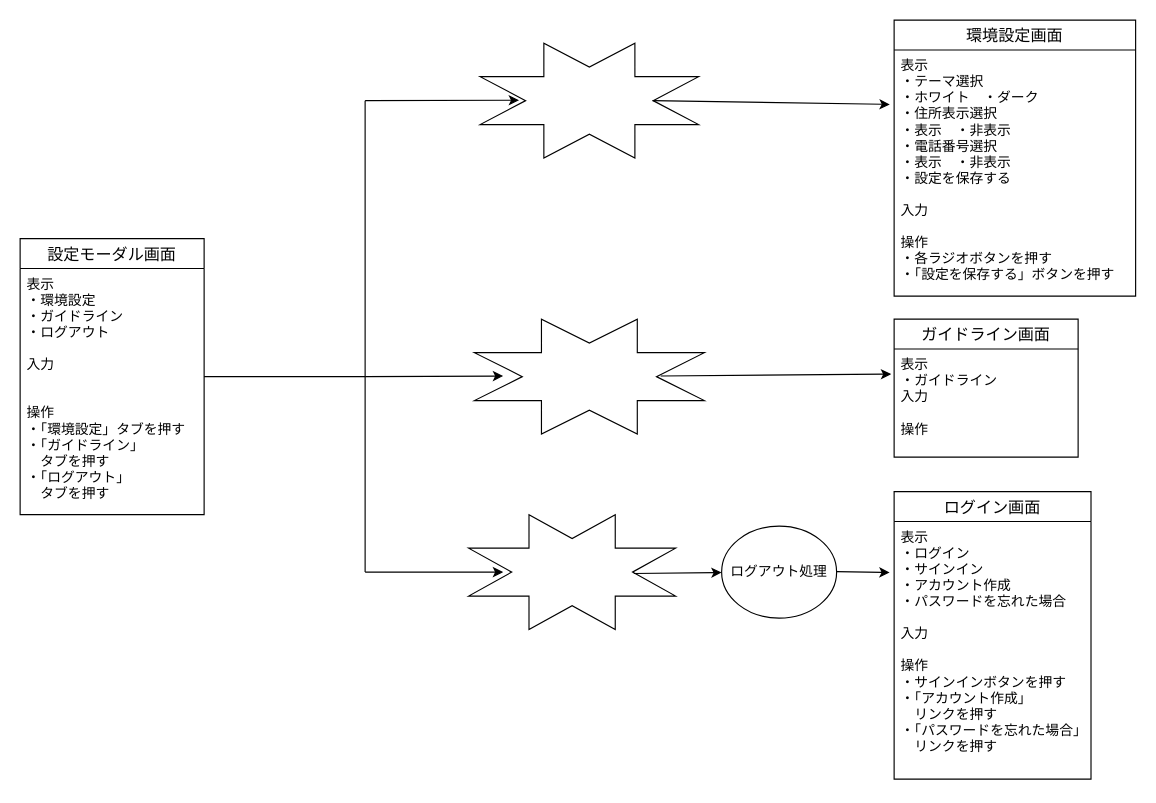
Some shapes in this 1156 by 803 pixel diagram are drawn without their labels. The shapes that lost their labels are listed below. From the top down, each one's centre as x and y in pixels, then its label:
At (589,100): "「環境設定」ボタンを押す".
At (588,376): "「ガイドライン」ボタンを押す".
At (571,571): "「ログアウト」ボタンを押す".
